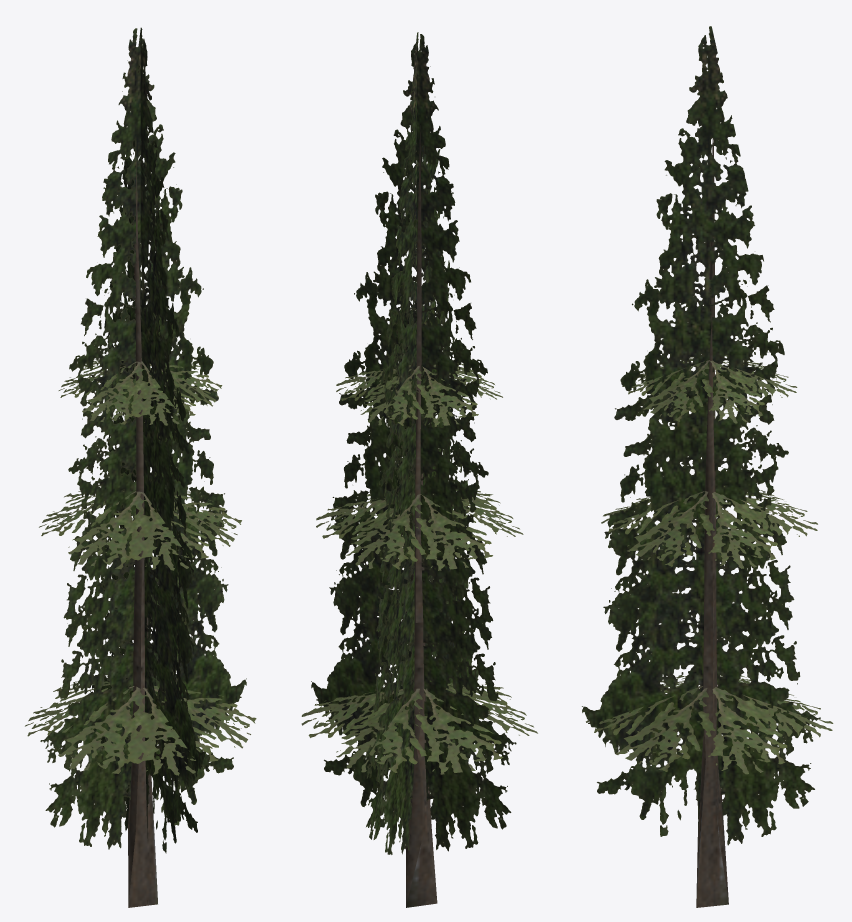
The model's file is smrk_k1.glb.
3 renders of one model, left to right at view 1: azimuth 30°, elevation 25°; view 2: azimuth 150°, elevation 25°; view 3: azimuth 270°, elevation 25°, orthographic.
Parts seen in each view (by area): view 1: Background_Tree_Atlas_Background_Tree_Atlas_0; view 2: Background_Tree_Atlas_Background_Tree_Atlas_0; view 3: Background_Tree_Atlas_Background_Tree_Atlas_0.
Boxes of the visible parts, box(x1,y1,x2,y2) form: Background_Tree_Atlas_Background_Tree_Atlas_0: box(25, 27, 256, 907); Background_Tree_Atlas_Background_Tree_Atlas_0: box(301, 32, 537, 907); Background_Tree_Atlas_Background_Tree_Atlas_0: box(582, 26, 833, 907).
Bounding box in the file's own units: 4.67 × 17.43 × 4.72.
Materials: 1 (1 with a texture image).
